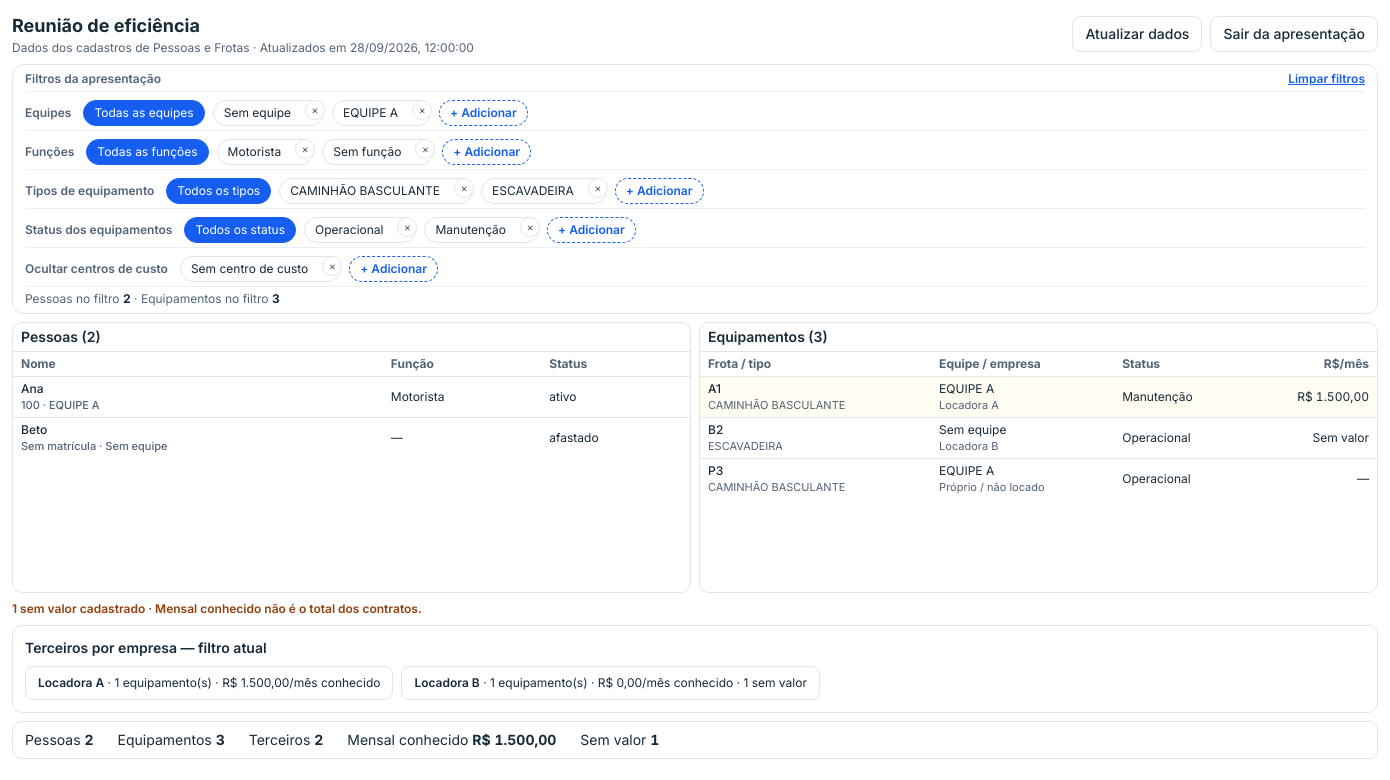
Test: tela de reunião › recalculates footer quantities and known rental costs from all active presentation filters
The image size is (1390, 780).
Expected: the footer named "Resumo do filtro da apresentação" shows "Pessoas 2", x1=12 y1=721 x2=1378 y2=759
Expected: the footer named "Resumo do filtro da apresentação" shows "Equipamentos 3", x1=12 y1=721 x2=1378 y2=759
What coordinates should you click on to do the following:
click the button with aria-label "Selecionar equipe EQUIPE A"
I would click on:
 (372, 113)
Its box is x1=333 y1=101 x2=410 y2=125.
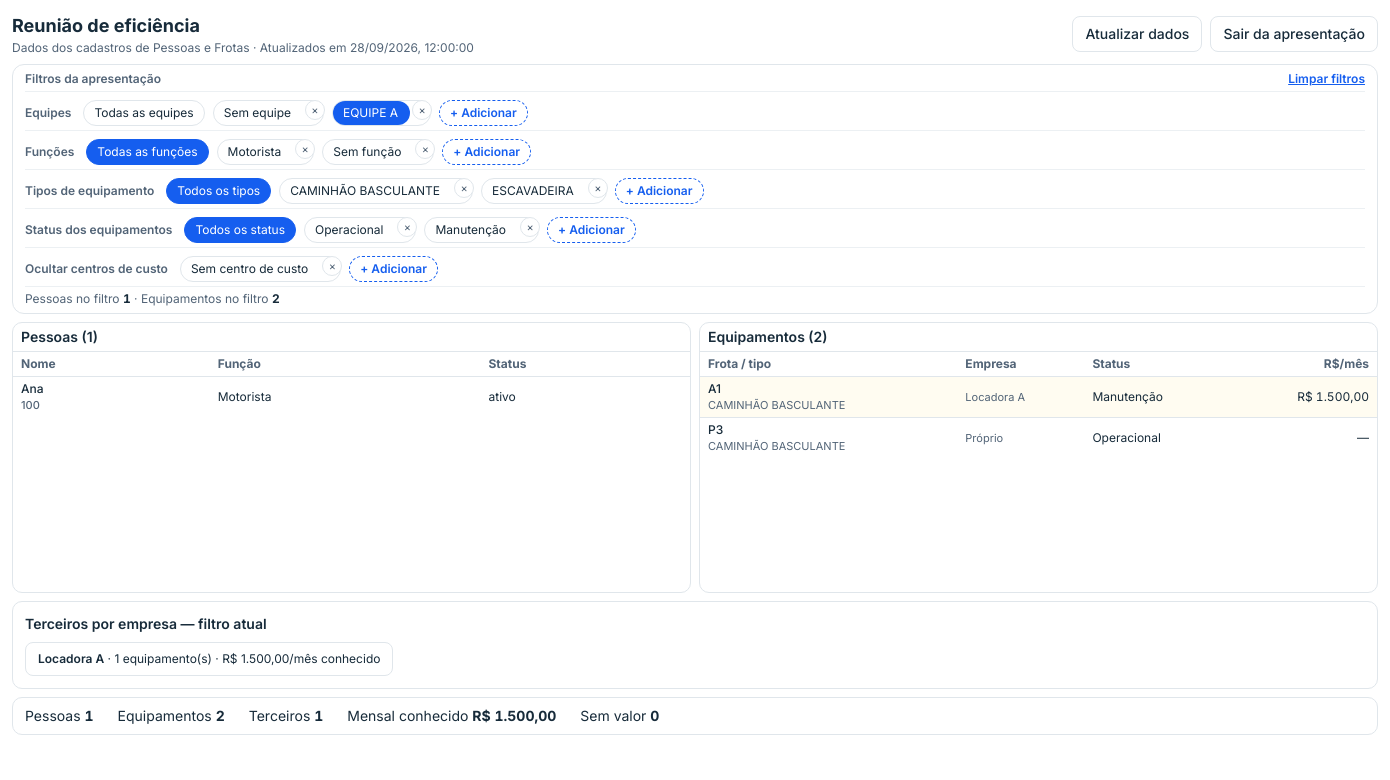
Expected: the footer named "Resumo do filtro da apresentação" shows "Pessoas 1", x1=12 y1=697 x2=1378 y2=735
Expected: the footer named "Resumo do filtro da apresentação" shows "Equipamentos 2", x1=12 y1=697 x2=1378 y2=735
Expected: the footer named "Resumo do filtro da apresentação" shows "Terceiros 1", x1=12 y1=697 x2=1378 y2=735
What coordinates should you click on to do the following:
click the button with aria-label "Selecionar status Operacional"
I would click on:
 (350, 230)
Its box is x1=305 y1=218 x2=396 y2=242.
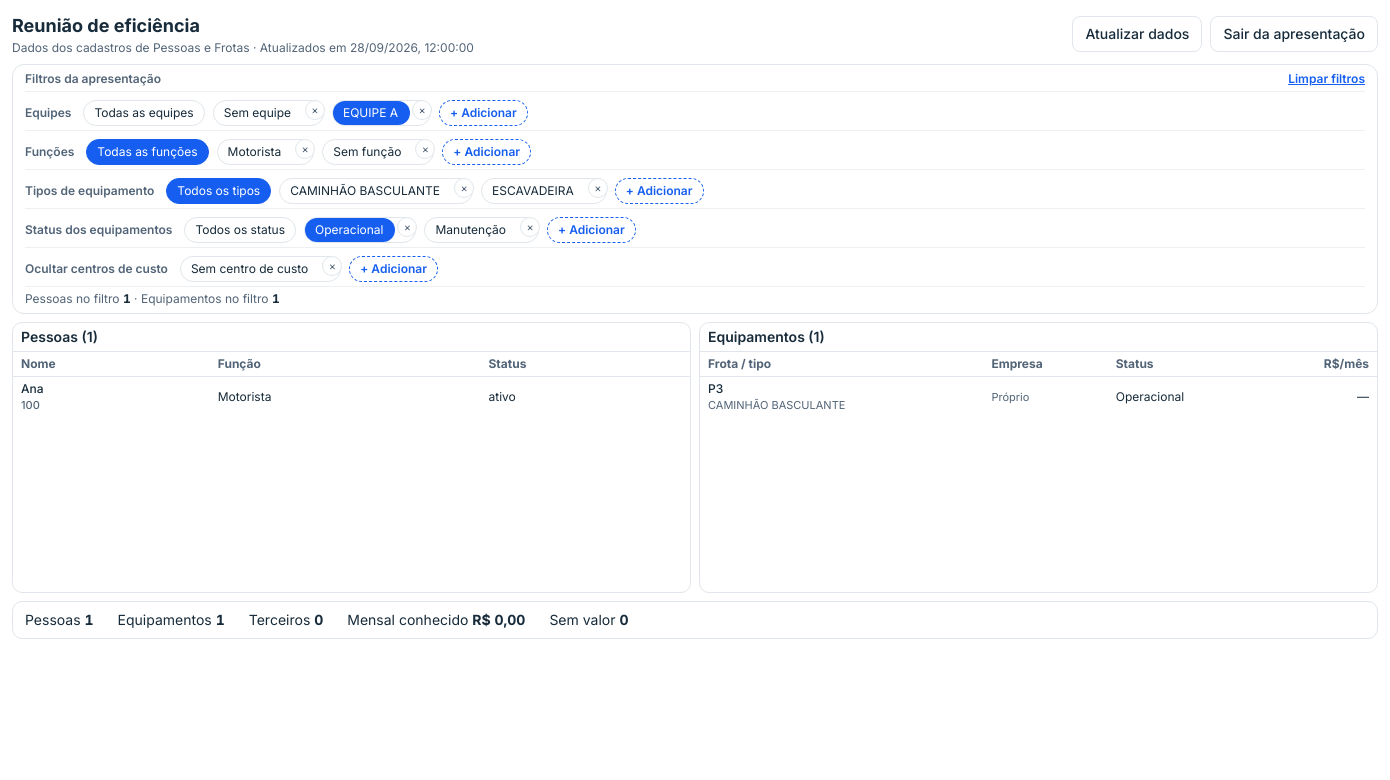
Expected: the footer named "Resumo do filtro da apresentação" shows "0,00", x1=472 y1=611 x2=525 y2=628
Expected: the footer named "Resumo do filtro da apresentação" shows "Equipamentos 1", x1=12 y1=601 x2=1378 y2=639
Expected: the footer named "Resumo do filtro da apresentação" shows "Terceiros 0", x1=12 y1=601 x2=1378 y2=639
